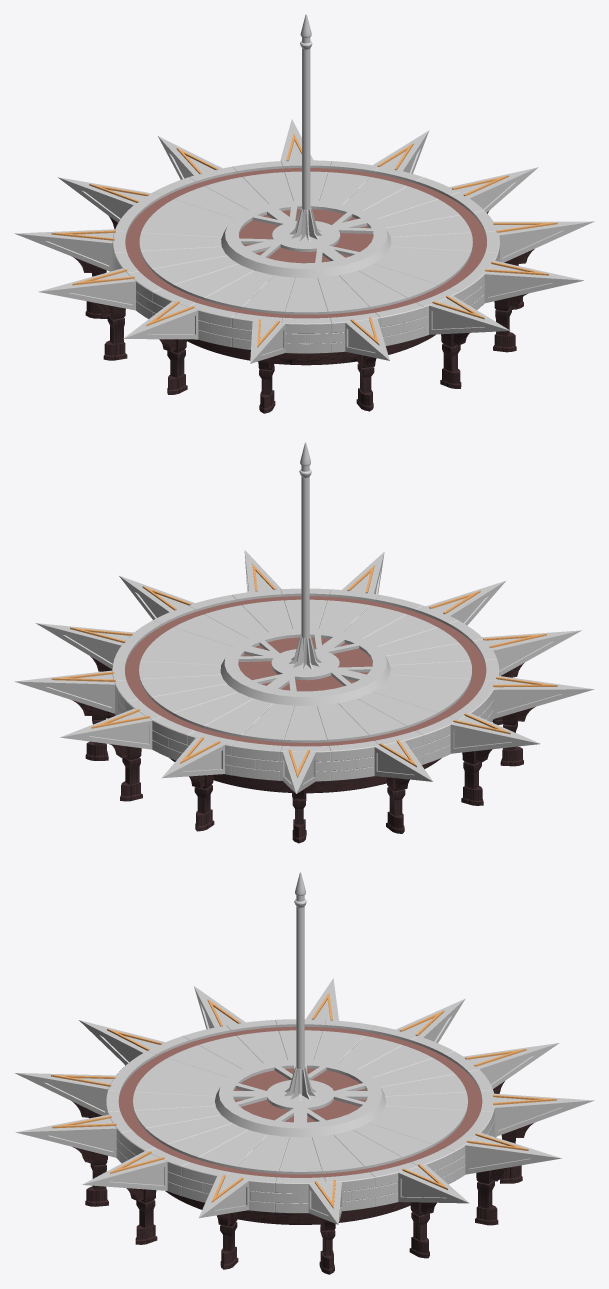
File: fire.glb
3 renders of one model, top to bottom at view 1: azimuth 30°, elevation 25°; view 2: azimuth 150°, elevation 25°; view 3: azimuth 270°, elevation 25°, orthographic.
Visible parts, largest first — view 1: 处刑台, 金属网格; view 2: 处刑台, 金属网格; view 3: 处刑台, 金属网格.
Part boxes in pixels (left/top/right/bottom): 处刑台: left=14, top=14, right=594, bottom=413; 金属网格: left=125, top=168, right=486, bottom=318; 处刑台: left=14, top=442, right=594, bottom=843; 金属网格: left=125, top=596, right=486, bottom=746; 处刑台: left=15, top=872, right=594, bottom=1274; 金属网格: left=118, top=1026, right=482, bottom=1177.
Size of the model in its own units: 4.81 by 2.81 by 4.78.
Materials: 5 (1 with a texture image).
